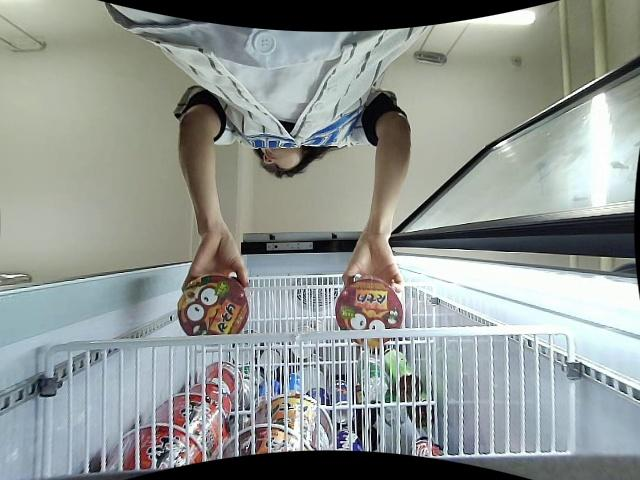00_hand: (181, 235, 251, 294), (343, 233, 405, 295)
06_nuguri_S: (336, 279, 404, 347), (178, 275, 250, 333)
